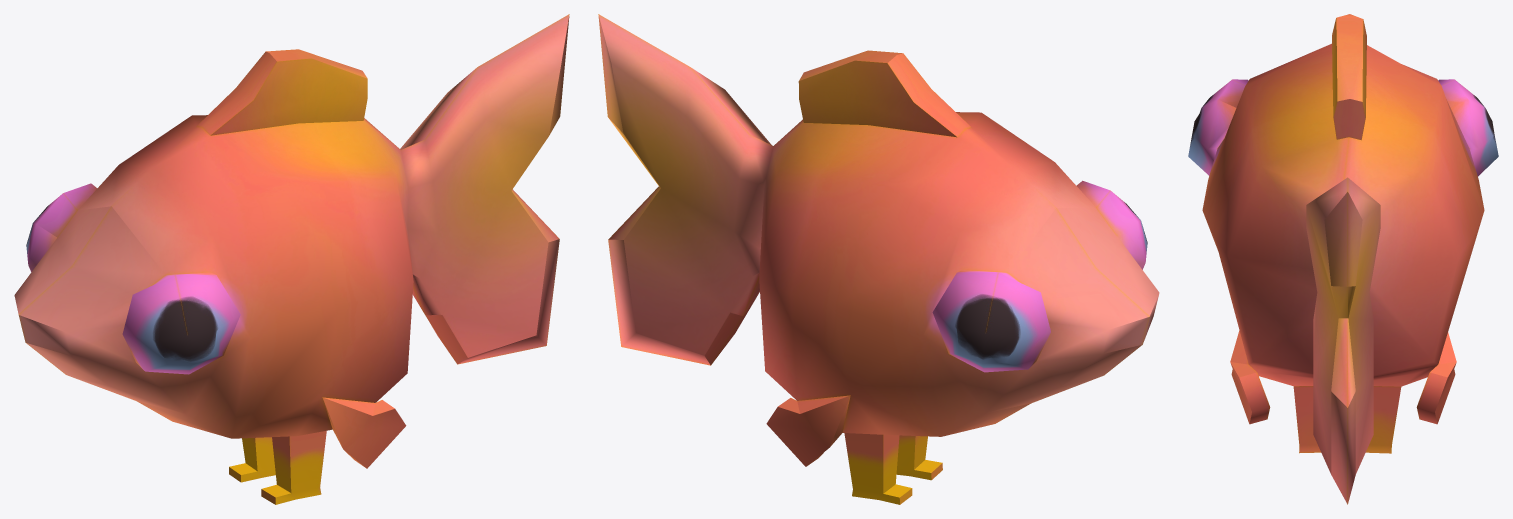
File: vis_fase_1.fbx
The picture shows the model from 3 angles, left to right: view 1: azimuth 30°, elevation 25°; view 2: azimuth 150°, elevation 25°; view 3: azimuth 270°, elevation 25°; orthographic projection.
Visible parts, largest first — view 1: visFase1:pCube2; view 2: visFase1:pCube2; view 3: visFase1:pCube2.
Boxes of the visible parts, <box> form: visFase1:pCube2: <box>14,14,569,504</box>; visFase1:pCube2: <box>598,14,1159,504</box>; visFase1:pCube2: <box>1188,14,1498,504</box>.
Size of the model in its own units: 1.54 by 1.15 by 0.7592.
